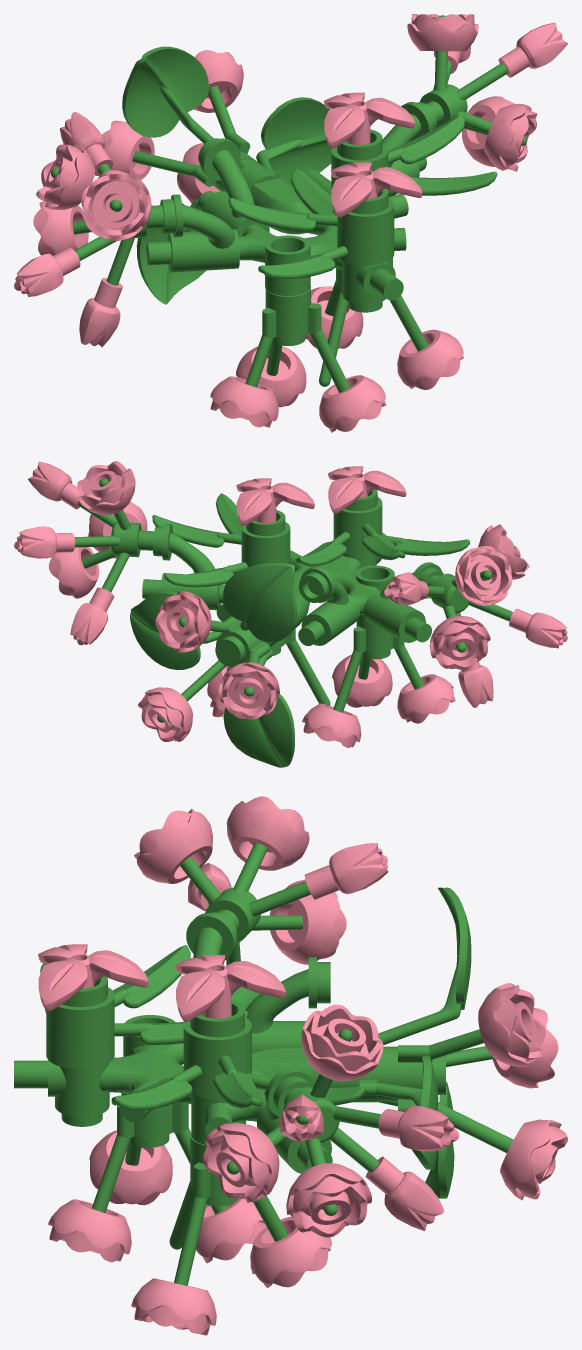
File: Rosas (1).dae
3 renders of one model, top to bottom at view 1: azimuth 30°, elevation 25°; view 2: azimuth 150°, elevation 25°; view 3: azimuth 270°, elevation 25°, orthographic. The views are drawn at different scales.
Parts seen in each view (by area): view 1: Inner-Node-Rosas___28_1_29__dot_io-4, Inner-Node-Rosas___28_1_29__dot_io-1, Inner-Node-Rosas___28_1_29__dot_io-30, Inner-Node-Rosas___28_1_29__dot_io-7, Inner-Node-Rosas___28_1_29__dot_io-2, Inner-Node-Rosas___28_1_29__dot_io-31, Inner-Node-Rosas___28_1_29__dot_io-23, Inner-Node-Rosas___28_1_29__dot_io-6, Inner-Node-Rosas___28_1_29__dot_io-33, Inner-Node-Rosas___28_1_29__dot_io-32, Inner-Node-Rosas___28_1_29__dot_io-16, Inner-Node-Rosas___28_1_29__dot_io-14 (+20 smaller); view 2: Inner-Node-Rosas___28_1_29__dot_io-4, Inner-Node-Rosas___28_1_29__dot_io-31, Inner-Node-Rosas___28_1_29__dot_io-30, Inner-Node-Rosas___28_1_29__dot_io-6, Inner-Node-Rosas___28_1_29__dot_io-1, Inner-Node-Rosas___28_1_29__dot_io-16, Inner-Node-Rosas___28_1_29__dot_io-2, Inner-Node-Rosas___28_1_29__dot_io-0, Inner-Node-Rosas___28_1_29__dot_io-21, Inner-Node-Rosas___28_1_29__dot_io-5, Inner-Node-Rosas___28_1_29__dot_io-10, Inner-Node-Rosas___28_1_29__dot_io-7 (+20 smaller); view 3: Inner-Node-Rosas___28_1_29__dot_io-1, Inner-Node-Rosas___28_1_29__dot_io-31, Inner-Node-Rosas___28_1_29__dot_io-30, Inner-Node-Rosas___28_1_29__dot_io-4, Inner-Node-Rosas___28_1_29__dot_io-5, Inner-Node-Rosas___28_1_29__dot_io-17, Inner-Node-Rosas___28_1_29__dot_io-24, Inner-Node-Rosas___28_1_29__dot_io-27, Inner-Node-Rosas___28_1_29__dot_io-33, Inner-Node-Rosas___28_1_29__dot_io-28, Inner-Node-Rosas___28_1_29__dot_io-21, Inner-Node-Rosas___28_1_29__dot_io-10 (+21 smaller).
Boxes of the visible parts, bbox=[...] form: Inner-Node-Rosas___28_1_29__dot_io-4: bbox=[122, 46, 331, 304]; Inner-Node-Rosas___28_1_29__dot_io-1: bbox=[238, 170, 408, 312]; Inner-Node-Rosas___28_1_29__dot_io-30: bbox=[228, 168, 394, 278]; Inner-Node-Rosas___28_1_29__dot_io-7: bbox=[146, 194, 239, 272]; Inner-Node-Rosas___28_1_29__dot_io-2: bbox=[245, 286, 350, 392]; Inner-Node-Rosas___28_1_29__dot_io-31: bbox=[331, 114, 497, 195]; Inner-Node-Rosas___28_1_29__dot_io-23: bbox=[81, 170, 151, 240]; Inner-Node-Rosas___28_1_29__dot_io-6: bbox=[197, 138, 269, 236]; Inner-Node-Rosas___28_1_29__dot_io-33: bbox=[323, 92, 415, 148]; Inner-Node-Rosas___28_1_29__dot_io-32: bbox=[331, 162, 422, 217]; Inner-Node-Rosas___28_1_29__dot_io-16: bbox=[420, 15, 527, 145]; Inner-Node-Rosas___28_1_29__dot_io-14: bbox=[397, 329, 463, 389]; Inner-Node-Rosas___28_1_29__dot_io-4: bbox=[130, 563, 296, 767]; Inner-Node-Rosas___28_1_29__dot_io-31: bbox=[152, 493, 290, 587]; Inner-Node-Rosas___28_1_29__dot_io-30: bbox=[296, 489, 469, 566]; Inner-Node-Rosas___28_1_29__dot_io-6: bbox=[298, 566, 359, 645]; Inner-Node-Rosas___28_1_29__dot_io-1: bbox=[216, 533, 394, 629]; Inner-Node-Rosas___28_1_29__dot_io-16: bbox=[74, 478, 153, 592]; Inner-Node-Rosas___28_1_29__dot_io-2: bbox=[333, 615, 423, 712]; Inner-Node-Rosas___28_1_29__dot_io-0: bbox=[218, 662, 279, 719]; Inner-Node-Rosas___28_1_29__dot_io-21: bbox=[455, 546, 512, 605]; Inner-Node-Rosas___28_1_29__dot_io-5: bbox=[157, 616, 270, 722]; Inner-Node-Rosas___28_1_29__dot_io-10: bbox=[155, 591, 211, 652]; Inner-Node-Rosas___28_1_29__dot_io-7: bbox=[363, 562, 443, 642]; Inner-Node-Rosas___28_1_29__dot_io-1: bbox=[14, 1015, 319, 1145]; Inner-Node-Rosas___28_1_29__dot_io-31: bbox=[111, 1000, 366, 1110]; Inner-Node-Rosas___28_1_29__dot_io-30: bbox=[40, 945, 248, 1069]; Inner-Node-Rosas___28_1_29__dot_io-4: bbox=[329, 887, 471, 1198]; Inner-Node-Rosas___28_1_29__dot_io-5: bbox=[377, 1029, 547, 1167]; Inner-Node-Rosas___28_1_29__dot_io-17: bbox=[180, 842, 310, 965]; Inner-Node-Rosas___28_1_29__dot_io-24: bbox=[301, 1004, 383, 1081]; Inner-Node-Rosas___28_1_29__dot_io-27: bbox=[286, 1163, 371, 1237]; Inner-Node-Rosas___28_1_29__dot_io-33: bbox=[175, 955, 285, 1021]; Inner-Node-Rosas___28_1_29__dot_io-28: bbox=[203, 1122, 279, 1202]; Inner-Node-Rosas___28_1_29__dot_io-21: bbox=[226, 796, 309, 870]; Inner-Node-Rosas___28_1_29__dot_io-10: bbox=[478, 983, 545, 1067].
Bounding box in the file's own units: 236 × 119 × 160.
